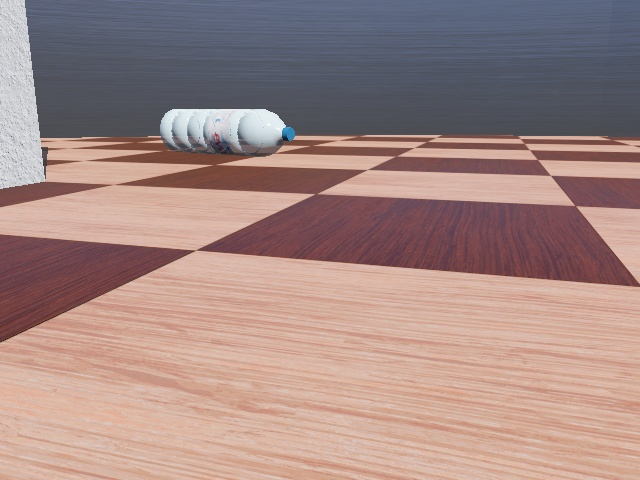chai_nhua: (160, 107, 297, 157)
